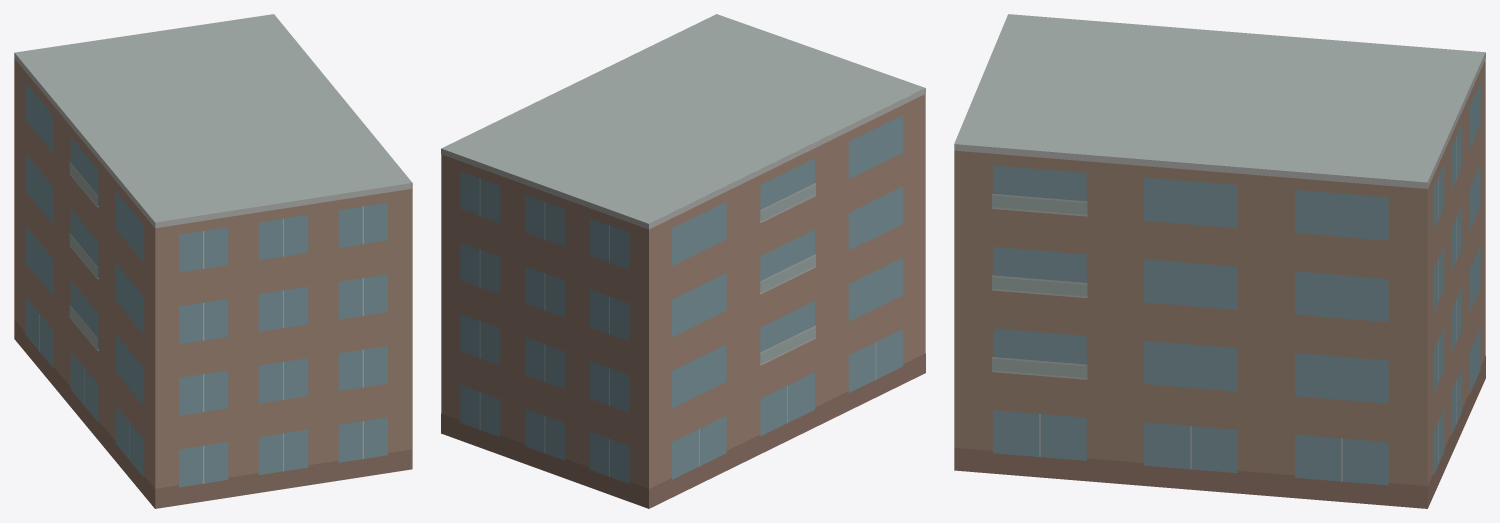
The model's file is survey-upis-32529107.glb.
3 views of the same model, side by side, from view 1: azimuth 30°, elevation 25°; view 2: azimuth 150°, elevation 25°; view 3: azimuth 270°, elevation 25° (orthographic). The views are drawn at different scales.
Parts seen in each view (by area): view 1: survey-upis-32529107.tmp; view 2: survey-upis-32529107.tmp; view 3: survey-upis-32529107.tmp.
Boxes of the visible parts, bbox=[...] form: survey-upis-32529107.tmp: bbox=[14, 14, 412, 508]; survey-upis-32529107.tmp: bbox=[441, 14, 925, 508]; survey-upis-32529107.tmp: bbox=[954, 14, 1485, 508].
Bounding box in the file's own units: 13.52 × 12.2 × 18.01.
